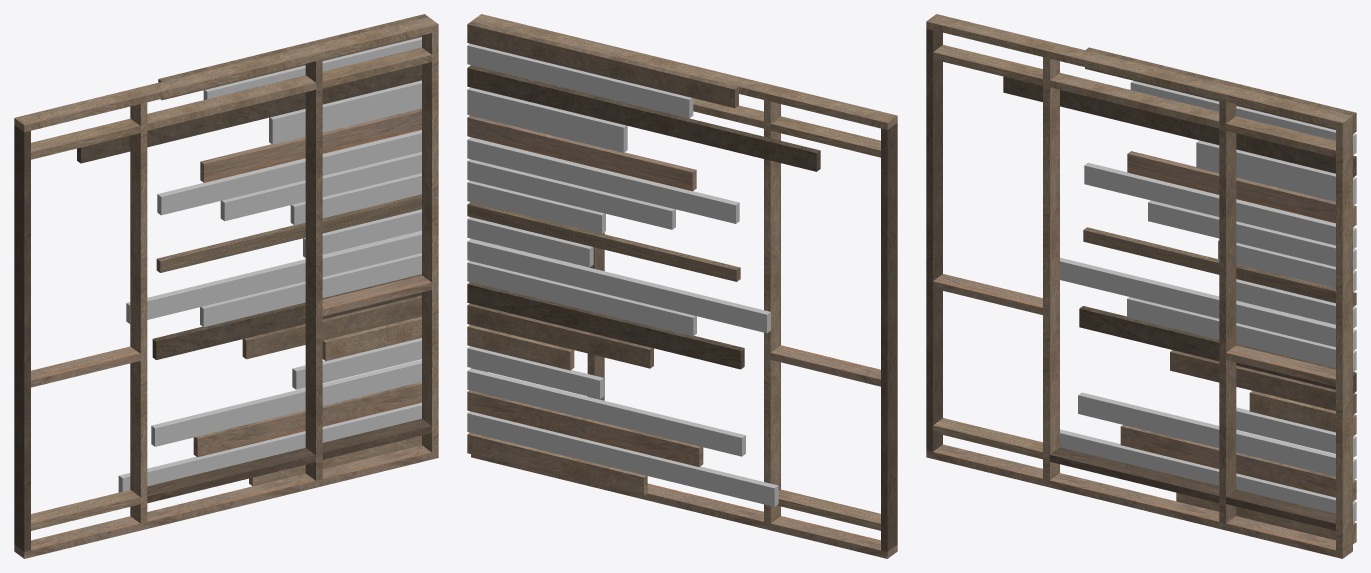
The model's file is WallPeiceDestroyC.fbx.
3 renders of one model, left to right at view 1: azimuth 30°, elevation 25°; view 2: azimuth 150°, elevation 25°; view 3: azimuth 330°, elevation 25°, orthographic.
Parts seen in each view (by area): view 1: WallPeiceDestroyC; view 2: WallPeiceDestroyC; view 3: WallPeiceDestroyC.
Boxes of the visible parts, x1=… form: WallPeiceDestroyC: x1=14, y1=14, x2=438, y2=558; WallPeiceDestroyC: x1=467, y1=14, x2=897, y2=558; WallPeiceDestroyC: x1=926, y1=14, x2=1356, y2=558.
Size of the model in its own units: 374 by 374 by 22.
